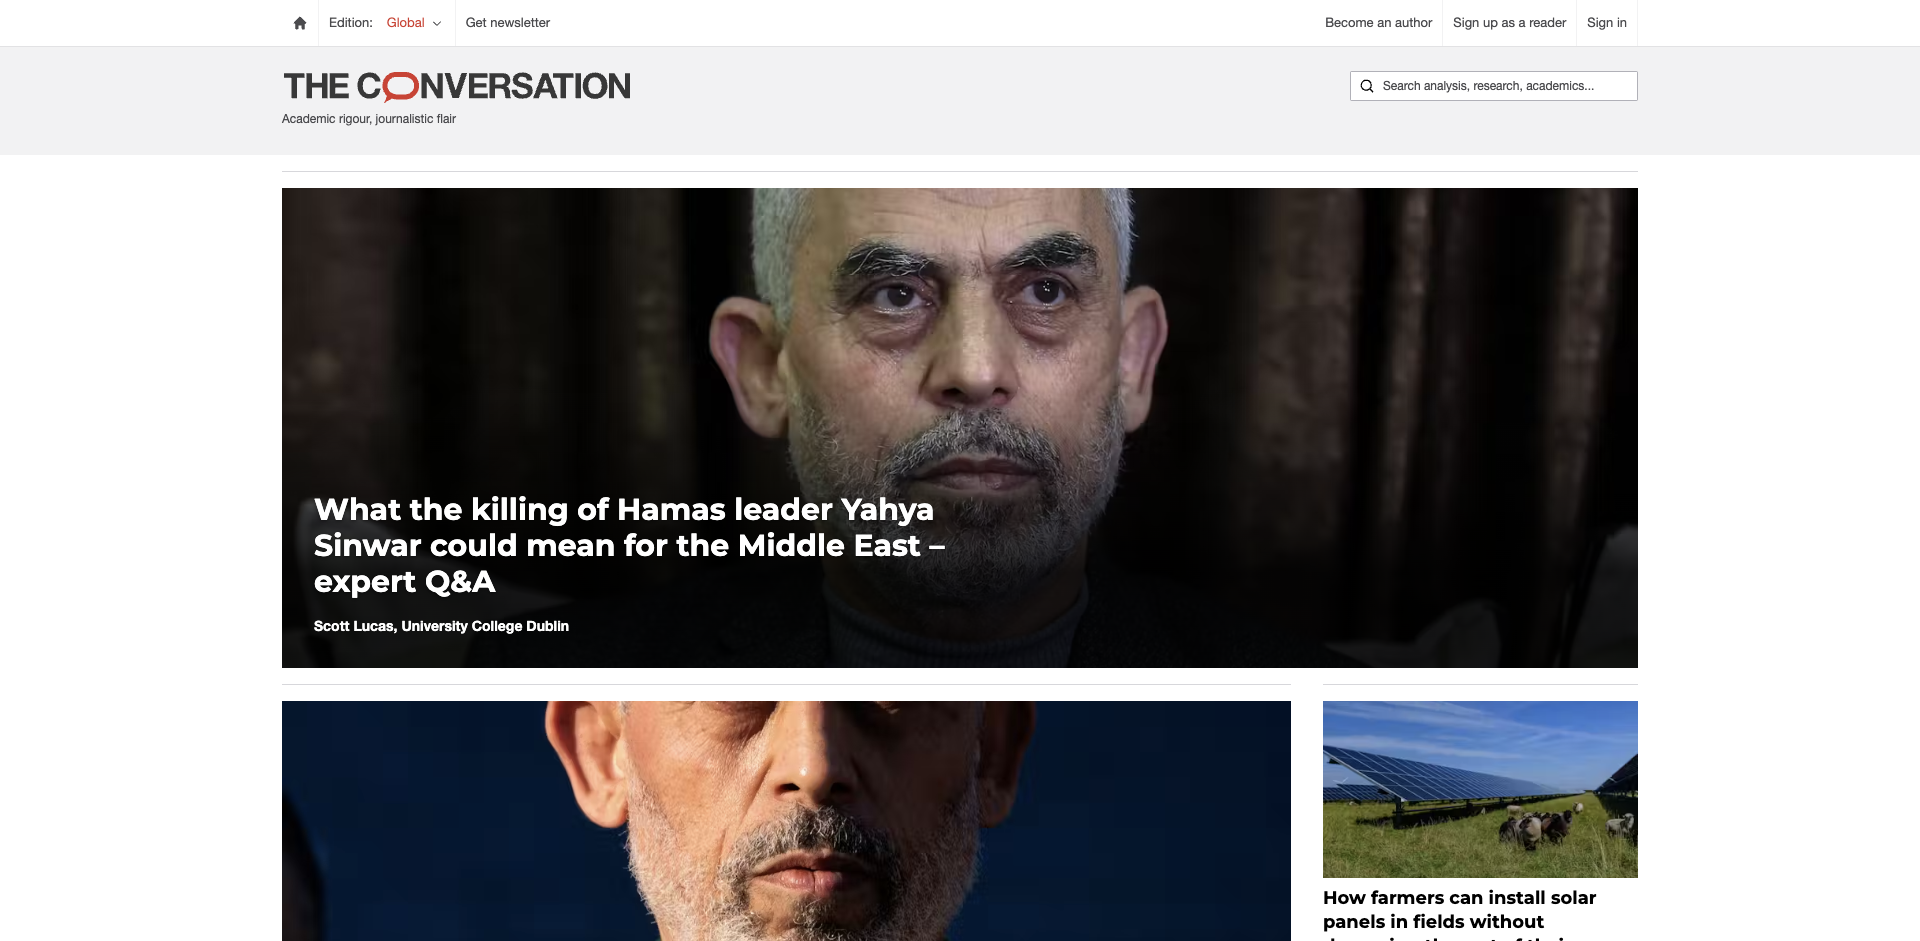button: (377, 0, 456, 47), (291, 15, 309, 31)
input: (1351, 72, 1637, 100)
label: (1351, 78, 1375, 94)
link: (282, 187, 1638, 668), (282, 701, 1291, 941), (1322, 701, 1638, 941), (282, 67, 632, 107), (1444, 0, 1577, 47), (1315, 0, 1444, 47), (456, 0, 560, 47), (1577, 0, 1638, 47), (282, 0, 320, 47)
